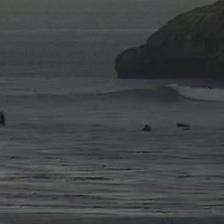surfer: (141, 125, 153, 132), (0, 111, 7, 123), (176, 123, 189, 128)
